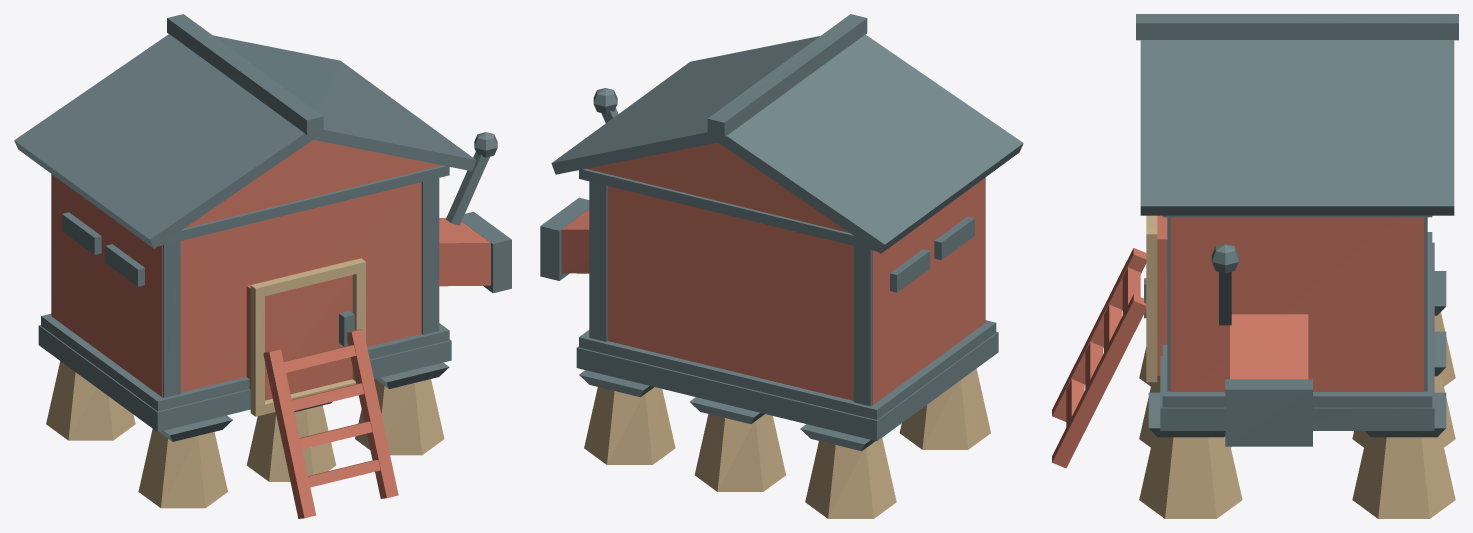
The model's file is Granary.glb.
3 renders of one model, left to right at view 1: azimuth 30°, elevation 25°; view 2: azimuth 150°, elevation 25°; view 3: azimuth 270°, elevation 25°, orthographic. The views are drawn at different scales.
Visible parts, largest first — view 1: granary-static-granary-weathered-timber-mat, granary-static-granary-galvanized-roof-mat, granary-static-granary-dark-iron-mat, granary-static-granary-warm-stone-pier-mat, granary-static-granary-cream-hatch-trim-mat; view 2: granary-static-granary-weathered-timber-mat, granary-static-granary-galvanized-roof-mat, granary-static-granary-dark-iron-mat, granary-static-granary-warm-stone-pier-mat; view 3: granary-static-granary-galvanized-roof-mat, granary-static-granary-weathered-timber-mat, granary-static-granary-dark-iron-mat, granary-static-granary-warm-stone-pier-mat, granary-static-granary-cream-hatch-trim-mat.
Boxes of the visible parts, x1=… form: granary-static-granary-weathered-timber-mat: x1=52, y1=140, x2=490, y2=518; granary-static-granary-galvanized-roof-mat: x1=14, y1=34, x2=476, y2=248; granary-static-granary-dark-iron-mat: x1=38, y1=14, x2=511, y2=441; granary-static-granary-warm-stone-pier-mat: x1=46, y1=361, x2=444, y2=508; granary-static-granary-cream-hatch-trim-mat: x1=250, y1=258, x2=365, y2=416; granary-static-granary-weathered-timber-mat: x1=561, y1=142, x2=984, y2=405; granary-static-granary-galvanized-roof-mat: x1=551, y1=34, x2=1023, y2=253; granary-static-granary-dark-iron-mat: x1=540, y1=14, x2=998, y2=451; granary-static-granary-warm-stone-pier-mat: x1=584, y1=368, x2=990, y2=518; granary-static-granary-galvanized-roof-mat: x1=1140, y1=40, x2=1454, y2=215; granary-static-granary-weathered-timber-mat: x1=1052, y1=215, x2=1424, y2=468; granary-static-granary-dark-iron-mat: x1=1136, y1=14, x2=1458, y2=446; granary-static-granary-warm-stone-pier-mat: x1=1139, y1=312, x2=1455, y2=518; granary-static-granary-cream-hatch-trim-mat: x1=1146, y1=215, x2=1157, y2=382.
Bounding box in the file's own units: 3.39 × 2.98 × 2.6.
